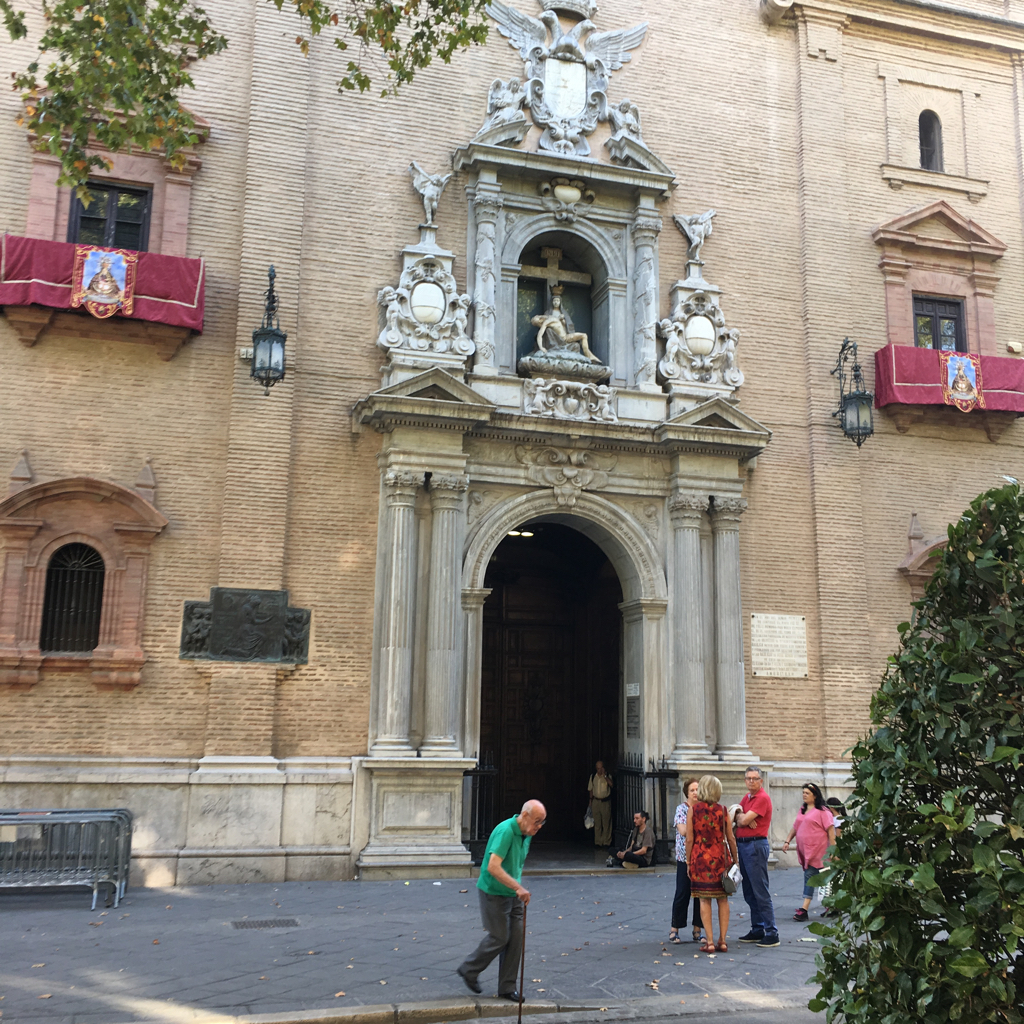arco-medio-punto: (476, 501, 651, 634), (511, 222, 615, 302)
fronton: (875, 201, 1008, 258), (369, 364, 499, 421), (662, 397, 774, 443)
fronton-partido: (466, 119, 677, 192), (1, 475, 172, 539)
